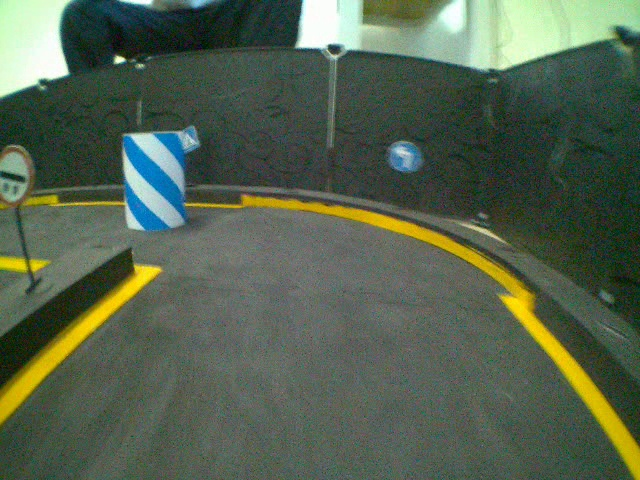bucket: (117, 129, 190, 233)
